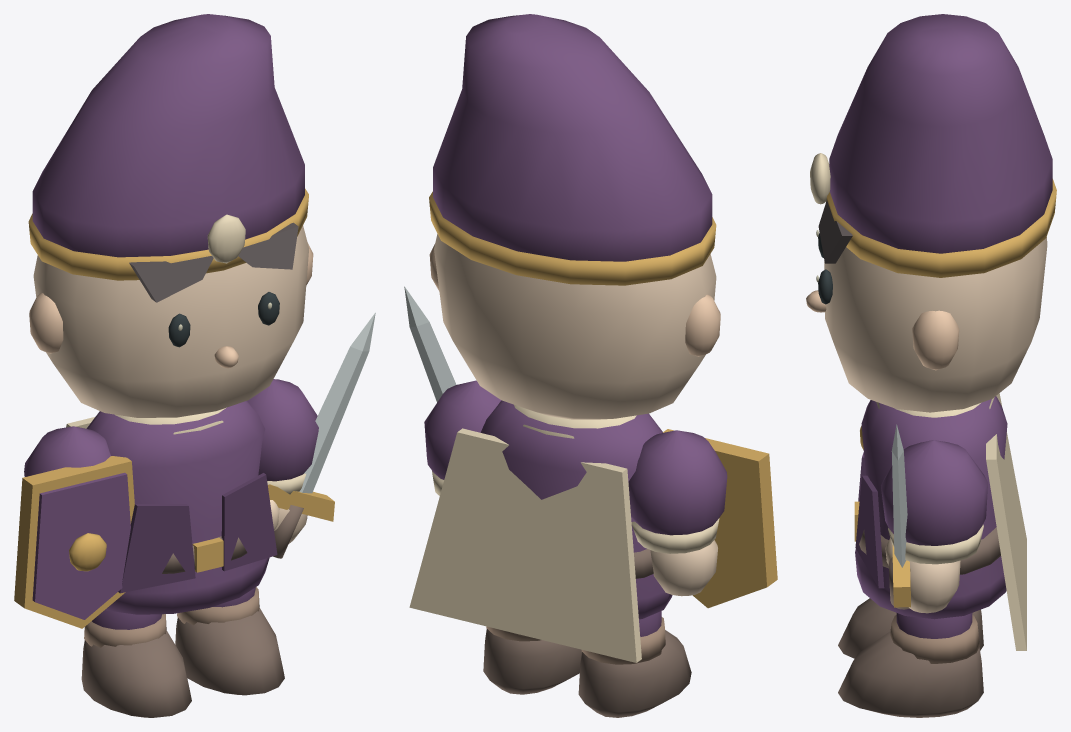
Rendered from warrior.glb.
The picture shows the model from 3 angles, left to right: view 1: azimuth 30°, elevation 25°; view 2: azimuth 150°, elevation 25°; view 3: azimuth 270°, elevation 25°; orthographic projection. The views are drawn at different scales.
Parts seen in each view (by area): view 1: Folded Persian tiara, Soft cheek head, Short folded tunic, Regional shield face, Round leather boot, Round leather boot.001, Shield gold rim, Coat fold, Puff sleeve.001, Tiara gold band, Coat fold.001, Shaped bevel sword (+13 smaller); view 2: Folded Persian tiara, Persian shoulder drape, Soft cheek head, Short folded tunic, Shield gold rim, Puff sleeve, Tiara gold band, Round leather boot, Round leather boot.001, Puff sleeve.001, Little mitten, Shaped bevel sword (+4 smaller); view 3: Folded Persian tiara, Soft cheek head, Short folded tunic, Round leather boot.001, Puff sleeve.001, Tiara gold band, Persian shoulder drape, Ear.001, Little mitten.001, Boot turn cuff.001, Round leather boot, Coat fold.001 (+9 smaller).
Part boxes in pixels (bbox=[...]): Folded Persian tiara: bbox=[32, 14, 304, 257]; Soft cheek head: bbox=[33, 225, 309, 417]; Short folded tunic: bbox=[86, 401, 269, 614]; Regional shield face: bbox=[32, 472, 130, 619]; Round leather boot: bbox=[81, 630, 191, 717]; Round leather boot.001: bbox=[175, 607, 284, 695]; Shield gold rim: bbox=[14, 456, 134, 628]; Coat fold: bbox=[118, 504, 195, 593]; Puff sleeve.001: bbox=[247, 379, 318, 481]; Tiara gold band: bbox=[28, 188, 308, 280]; Coat fold.001: bbox=[221, 473, 277, 571]; Shaped bevel sword: bbox=[299, 312, 375, 493]; Folded Persian tiara: bbox=[433, 14, 712, 261]; Persian shoulder drape: bbox=[409, 428, 641, 662]; Soft cheek head: bbox=[434, 234, 716, 419]; Short folded tunic: bbox=[480, 400, 672, 619]; Shield gold rim: bbox=[663, 429, 777, 608]; Puff sleeve: bbox=[628, 430, 727, 535]; Tiara gold band: bbox=[429, 191, 716, 285]; Round leather boot: bbox=[578, 630, 691, 717]; Round leather boot.001: bbox=[483, 629, 581, 694]; Puff sleeve.001: bbox=[424, 380, 501, 479]; Little mitten: bbox=[650, 540, 717, 596]; Shaped bevel sword: bbox=[404, 286, 456, 402]; Folded Persian tiara: bbox=[829, 14, 1052, 253]; Soft cheek head: bbox=[824, 237, 1047, 412]; Short folded tunic: bbox=[855, 396, 1007, 619]; Round leather boot.001: bbox=[838, 631, 983, 717]; Puff sleeve.001: bbox=[881, 440, 987, 545]; Tiara gold band: bbox=[826, 179, 1056, 277]; Persian shoulder drape: bbox=[986, 393, 1026, 650]; Ear.001: bbox=[912, 310, 959, 370]; Little mitten.001: bbox=[909, 560, 960, 613]; Boot turn cuff.001: bbox=[890, 615, 979, 663]; Round leather boot: bbox=[838, 598, 983, 658]; Coat fold.001: bbox=[855, 475, 884, 588].
Bounding box in the file's own units: 1 × 1.72 × 0.584.
